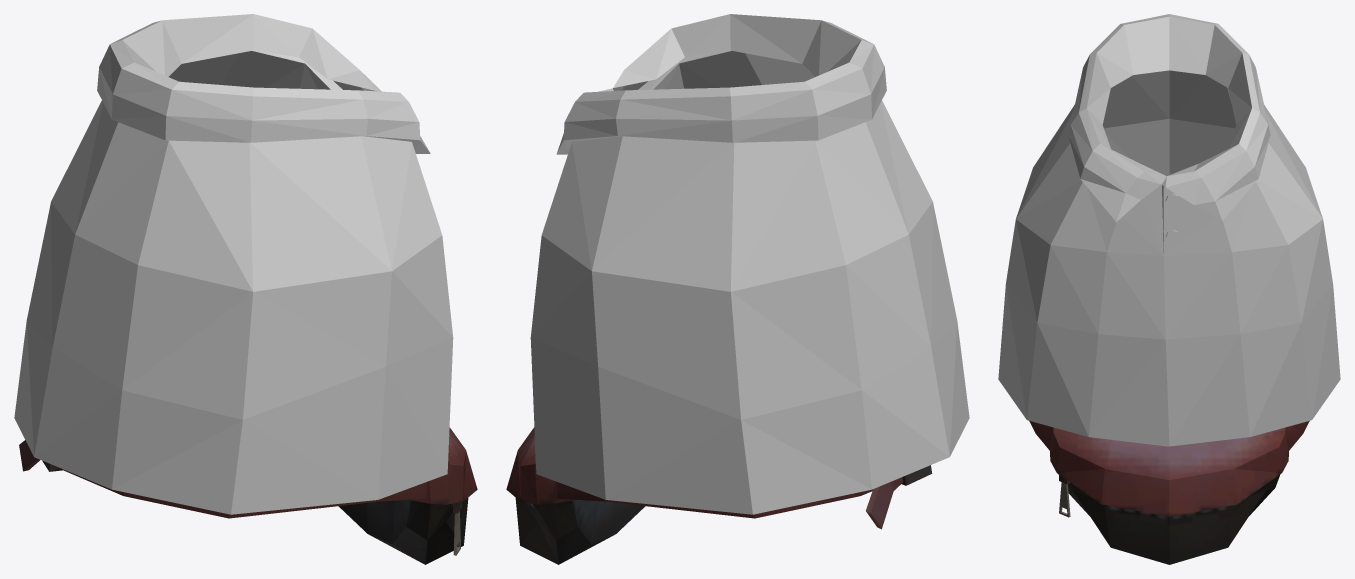
Rendered from COOL GUY OUTFIT.fbx.
3 renders of one model, left to right at view 1: azimuth 30°, elevation 25°; view 2: azimuth 150°, elevation 25°; view 3: azimuth 270°, elevation 25°, orthographic. The views are drawn at different scales.
Visible parts, largest first — view 1: CollarShirt_FunctionalSplit, FannyPack_AtlasTarget; view 2: CollarShirt_FunctionalSplit, FannyPack_AtlasTarget; view 3: CollarShirt_FunctionalSplit, FannyPack_AtlasTarget.
Boxes of the visible parts, x1,y1,x2,y2 form: CollarShirt_FunctionalSplit: (14, 14, 453, 514); FannyPack_AtlasTarget: (19, 427, 477, 564); CollarShirt_FunctionalSplit: (530, 14, 969, 514); FannyPack_AtlasTarget: (506, 427, 932, 564); CollarShirt_FunctionalSplit: (998, 14, 1340, 446); FannyPack_AtlasTarget: (1029, 421, 1309, 564).
Bounding box in the file's own units: 43.67 × 54.92 × 38.79.
